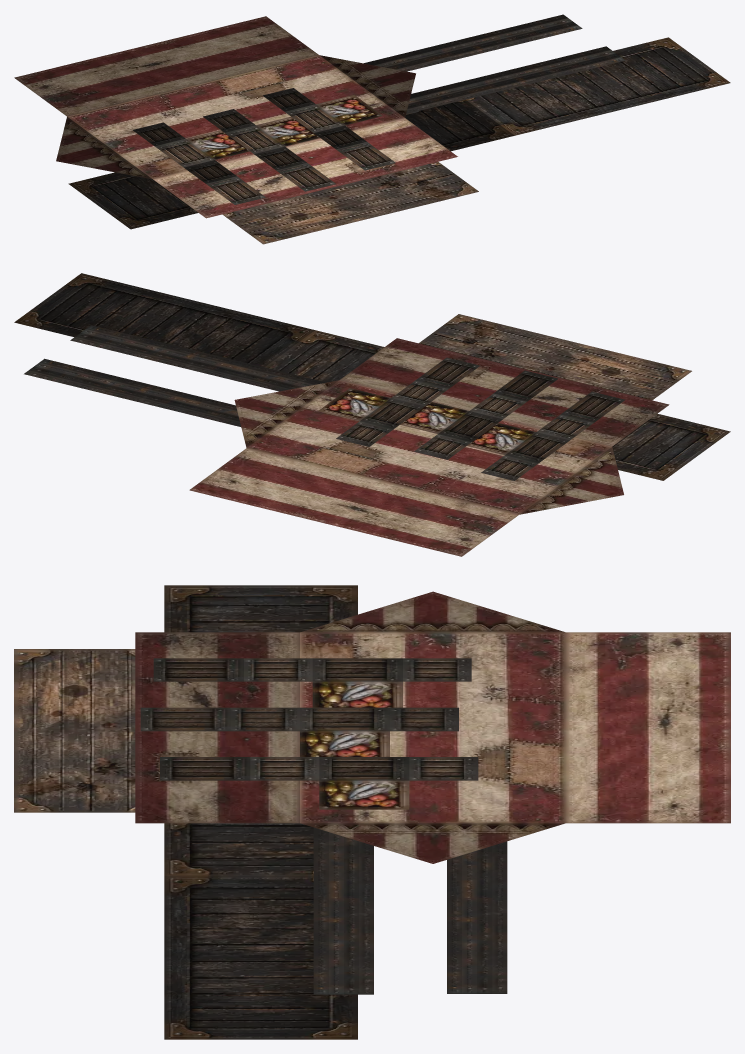
File: market_stall_fold.glb
The picture shows the model from 3 angles, top to bottom: view 1: azimuth 30°, elevation 25°; view 2: azimuth 150°, elevation 25°; view 3: azimuth 270°, elevation 25°; orthographic projection. The views are drawn at different scales.
Visible parts, largest first — view 1: GEO-market_stall; view 2: GEO-market_stall; view 3: GEO-market_stall.
Part boxes in pixels (box(x1,y1,x2,y2)): GEO-market_stall: box(14, 14, 730, 244); GEO-market_stall: box(14, 273, 730, 556); GEO-market_stall: box(14, 585, 730, 1039).
Bounding box in the file's own units: 5 × 0.024 × 3.34.
1 material, 1 textured.
